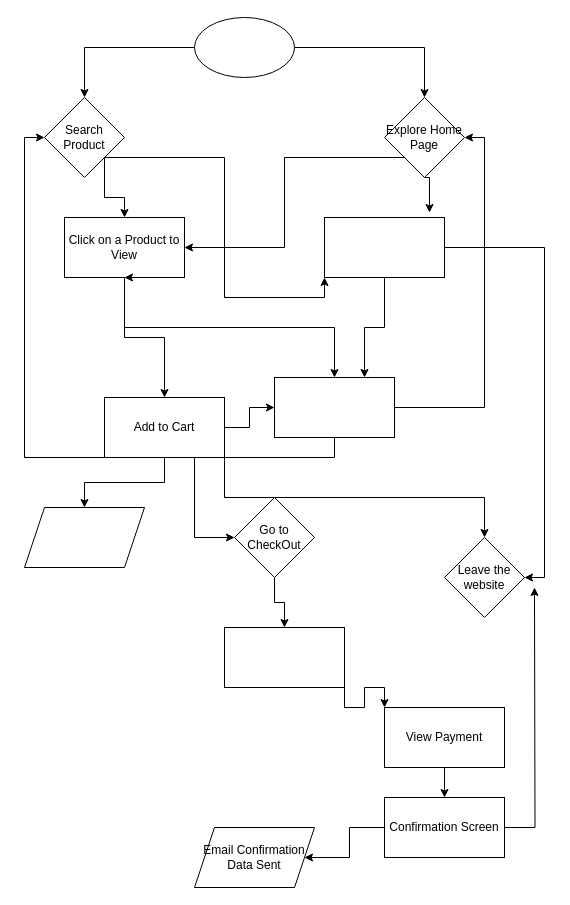
The diagram is 570 pixels wide and 905 high, and some of its shapes have lost their labels. Here are the shapes that lost their labels. From the top down, the centre of each, then its label:
At pixel 244 47: "Home".
At pixel 384 247: "Don't view product".
At pixel 334 407: "Continue Shopping".
At pixel 84 537: "Confirmation of adding to cart".
At pixel 284 657: "View Cart".
